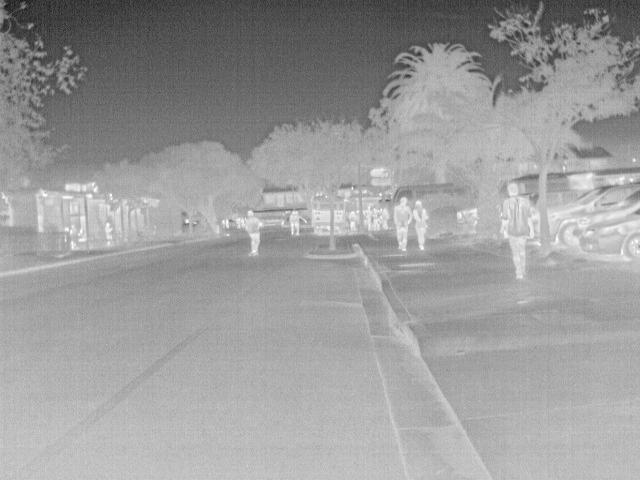car: (546, 182, 635, 249), (579, 211, 634, 259), (544, 188, 586, 207), (456, 207, 478, 234)
person: (498, 182, 536, 279), (394, 195, 415, 254), (411, 200, 429, 255), (243, 210, 262, 255), (288, 210, 303, 238), (361, 204, 375, 232), (102, 220, 116, 241), (348, 209, 360, 232), (75, 225, 88, 243)
